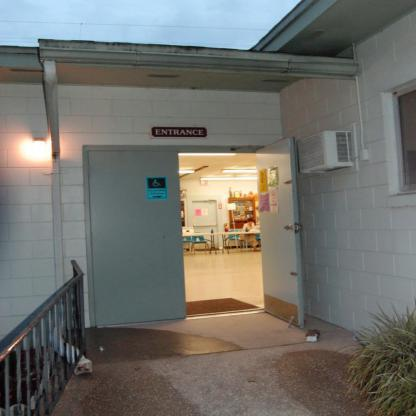door: (93, 148, 180, 325), (254, 136, 301, 330)
hinged: (89, 233, 94, 244), (86, 164, 90, 176), (93, 302, 97, 312)
knob: (284, 225, 289, 231)
